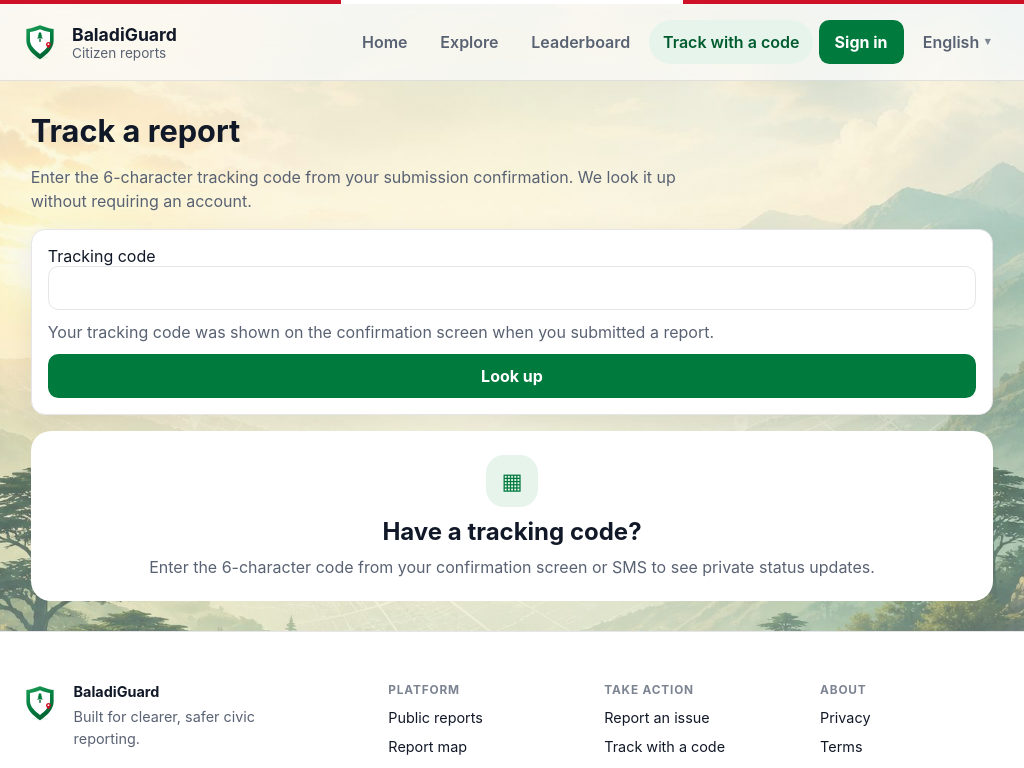
Test: issue #314 production-readiness › surfaces a clipboard failure after tracking lookup
The image size is (1024, 768).
Type "ABC234" into the field labelled "Tracking code".
click(512, 288); type("ABC234")  # box left=48, top=266, right=976, bottom=310
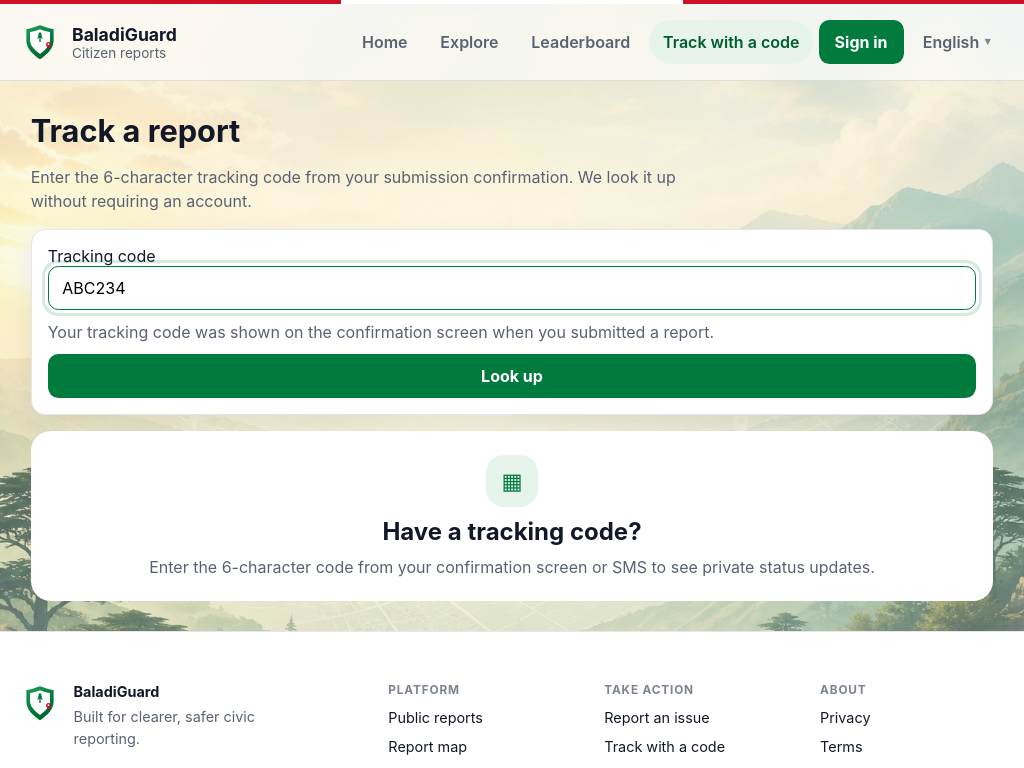
Click the button "Look up".
click(512, 376)  # box left=48, top=354, right=976, bottom=398
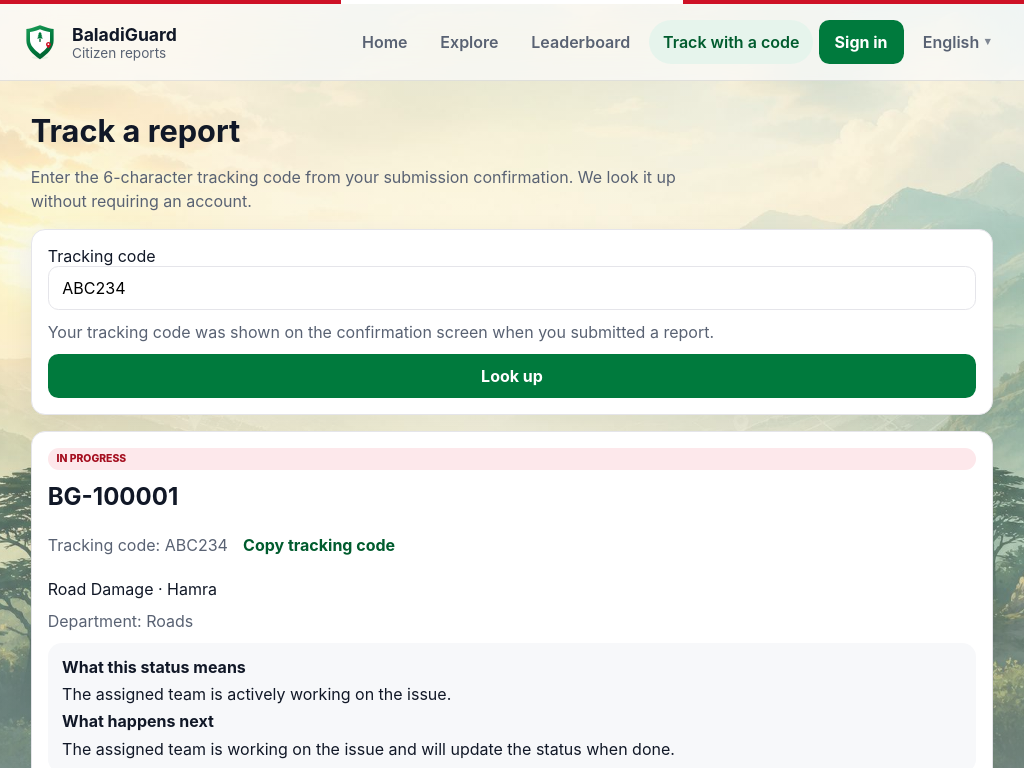
Click the button "Copy tracking code".
click(319, 545)  # box left=236, top=523, right=402, bottom=567
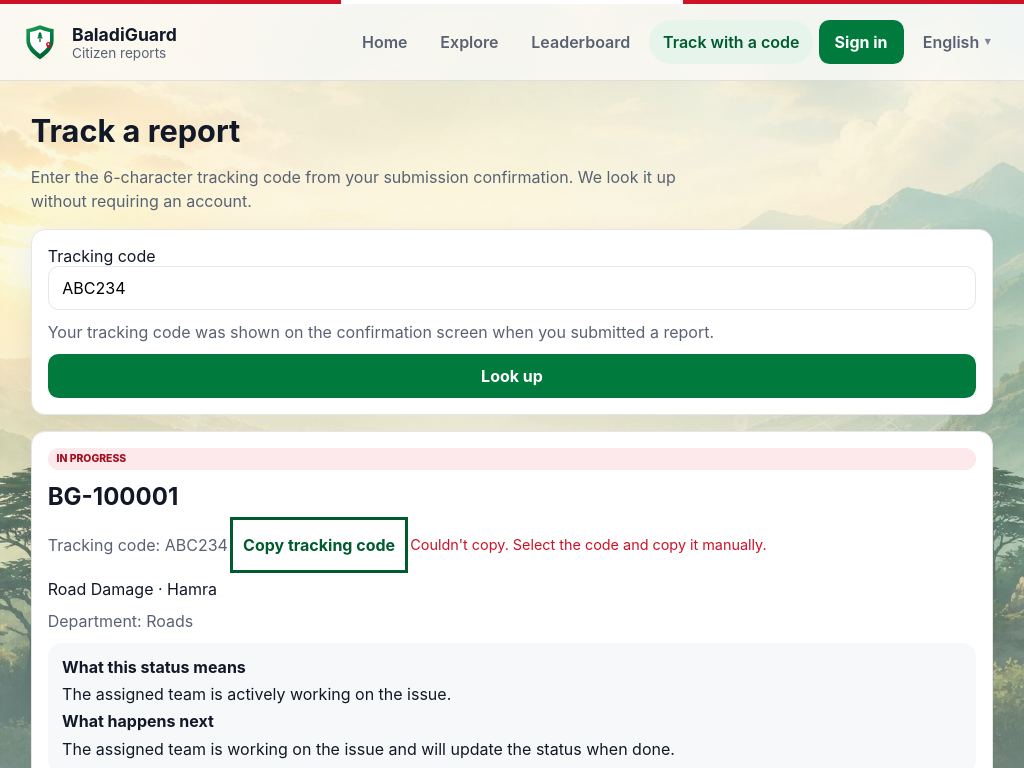
Check: the message reads "Couldn't copy. Select the code and copy it manually.", box left=410, top=536, right=767, bottom=553
